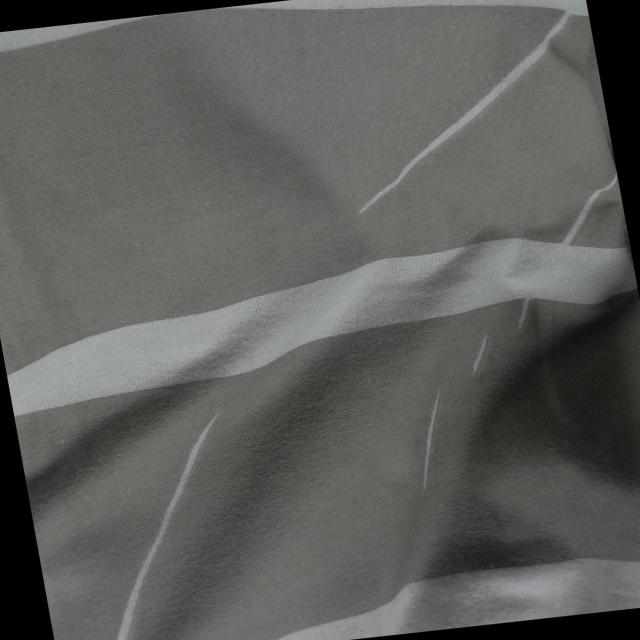selvet: (352, 96, 502, 212), (132, 408, 242, 536), (86, 546, 194, 640), (475, 14, 592, 96), (402, 370, 474, 502), (548, 169, 627, 239), (503, 296, 553, 342), (462, 324, 506, 373)
